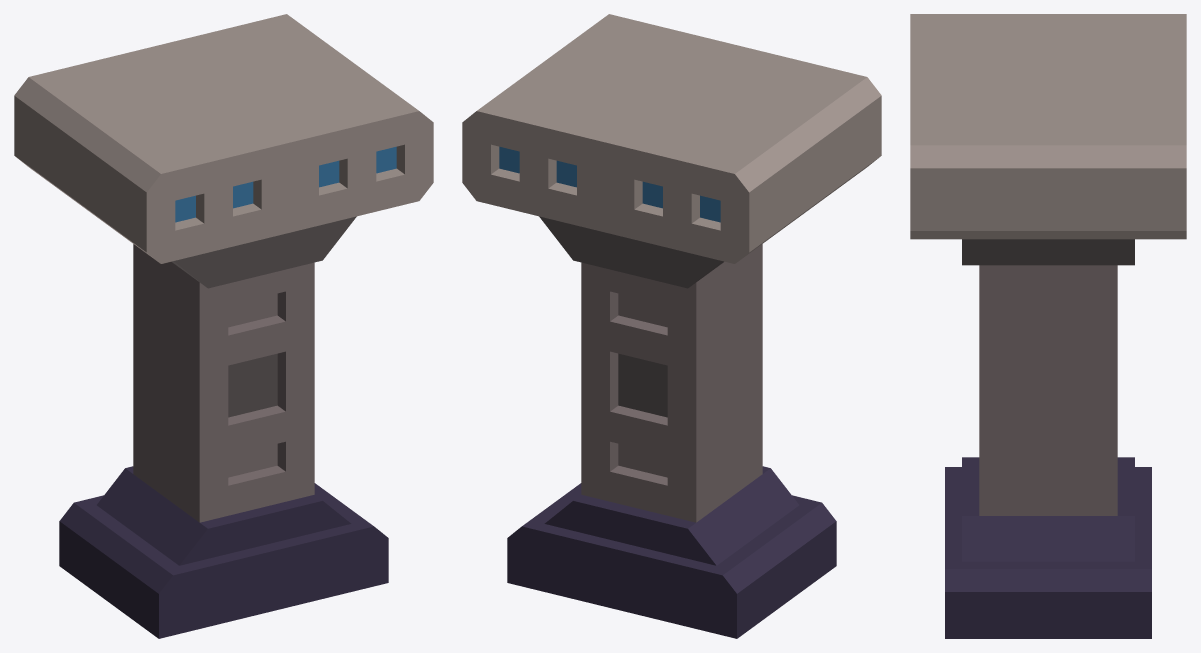
Rendered from plinth.glb.
3 views of the same model, side by side, from view 1: azimuth 30°, elevation 25°; view 2: azimuth 150°, elevation 25°; view 3: azimuth 270°, elevation 25° (orthographic). The views are drawn at different scales.
Parts seen in each view (by area): view 1: generated(Clone); view 2: generated(Clone); view 3: generated(Clone).
Boxes of the visible parts, x1=… form: generated(Clone): x1=14, y1=14, x2=433, y2=638; generated(Clone): x1=462, y1=14, x2=881, y2=638; generated(Clone): x1=910, y1=14, x2=1186, y2=638.
Size of the model in its own units: 10 by 16 by 8.
1 material, 1 textured.
